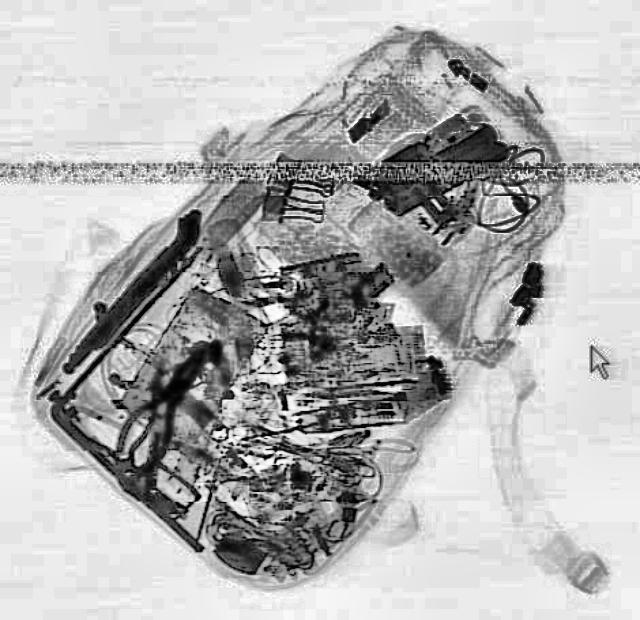Pliers: (100, 338, 226, 480)
